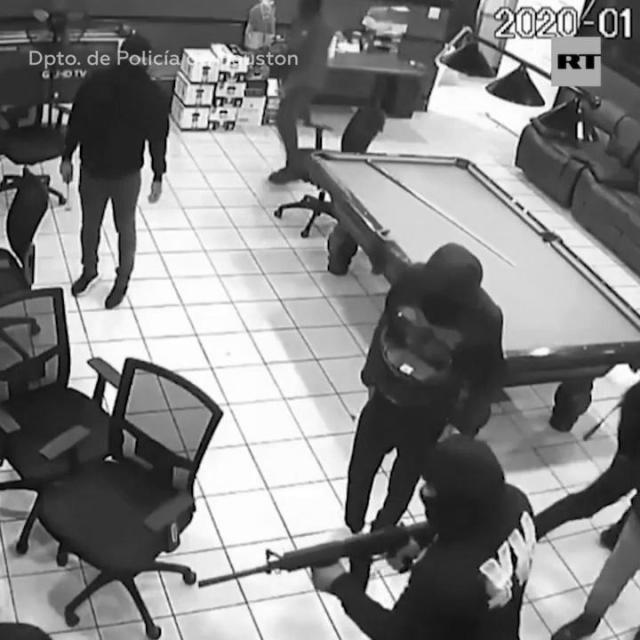weapon: (193, 515, 430, 604)
